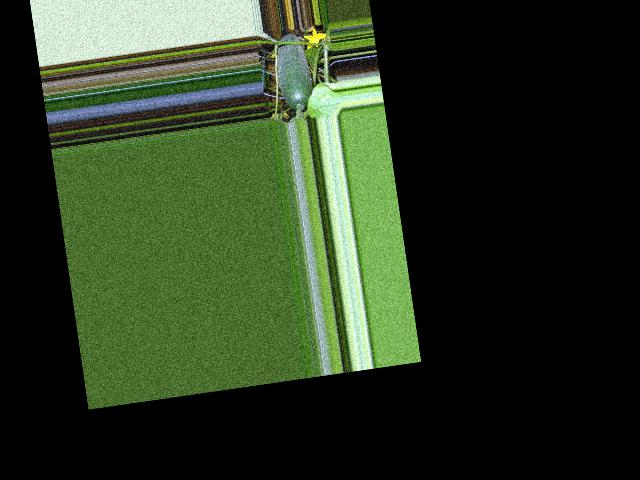cucumber: (272, 33, 315, 113)
